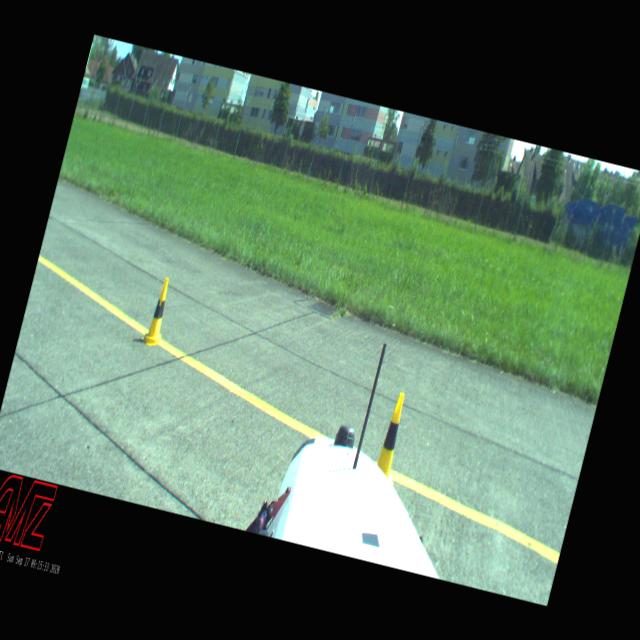yellow_cone: (369, 390, 414, 484), (142, 276, 174, 344)
